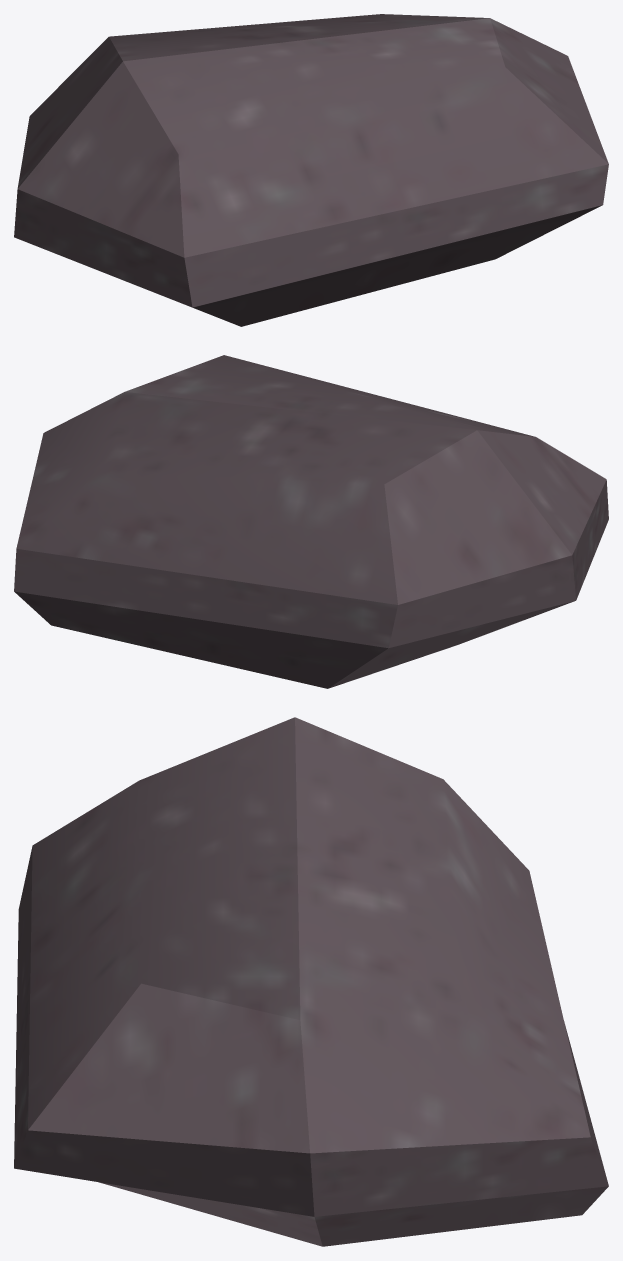
Rendered from StoneD-smll.FBX.
The picture shows the model from 3 angles, top to bottom: view 1: azimuth 30°, elevation 25°; view 2: azimuth 150°, elevation 25°; view 3: azimuth 270°, elevation 25°; orthographic projection. The views are drawn at different scales.
Parts seen in each view (by area): view 1: StoneD-smll; view 2: StoneD-smll; view 3: StoneD-smll.
Part boxes in pixels (x1=…): StoneD-smll: x1=14, y1=14, x2=608, y2=326; StoneD-smll: x1=14, y1=355, x2=608, y2=688; StoneD-smll: x1=14, y1=717, x2=608, y2=1246.
Size of the model in its own units: 68.1 by 27.38 by 47.44.
Materials: 1 (1 with a texture image).
